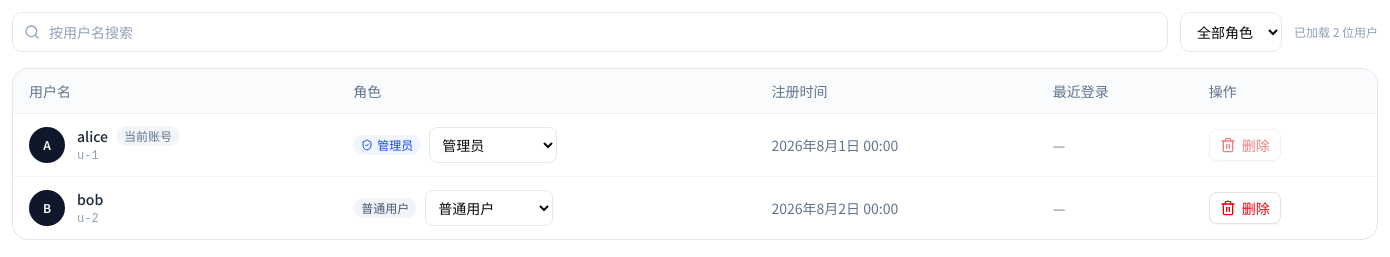
Scenario: filters already loaded users locally by username and role
The width and height of the screenshot is (1390, 257).
Expected: the text "alice" is shown, [77,126,108,146]
Type "bob" into the search field named "搜索用户".
click(590, 32); type("bob")  # box [12,12,1168,52]
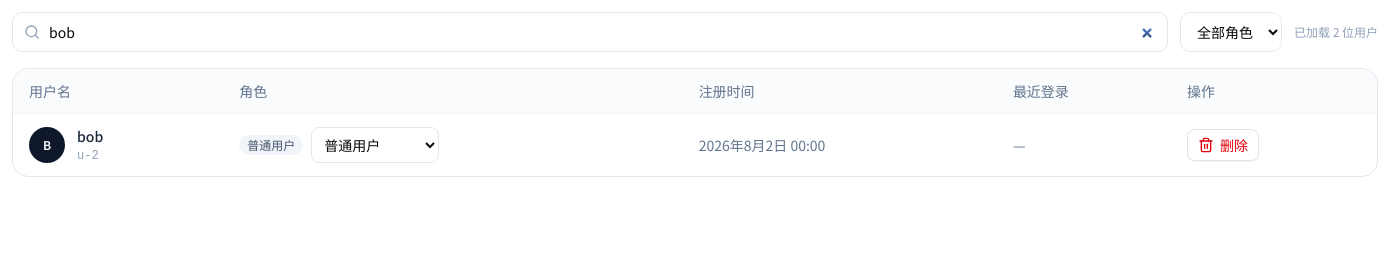
Expected: the text "bob" is shown, [77,126,103,146]
Expected: the text "alice" is gone
Select "管理员" in the dropdown named "按角色筛选" at (1231, 32), box [1180,12,1282,52]
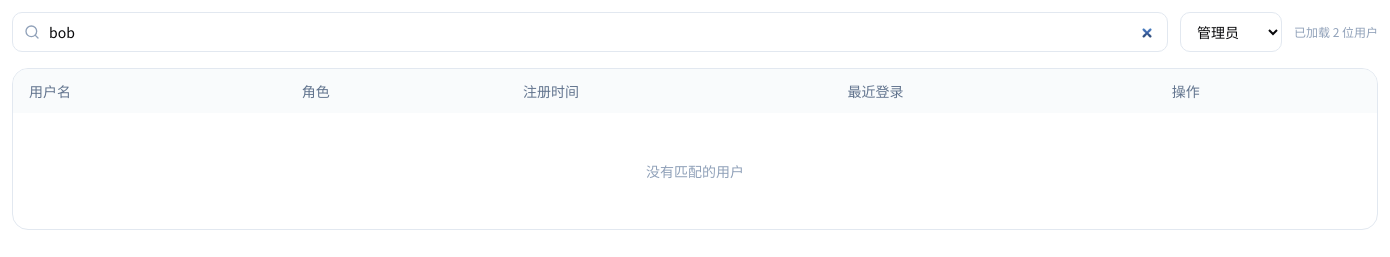
Expected: the text "没有匹配的用户" is shown, [13,113,1377,229]
